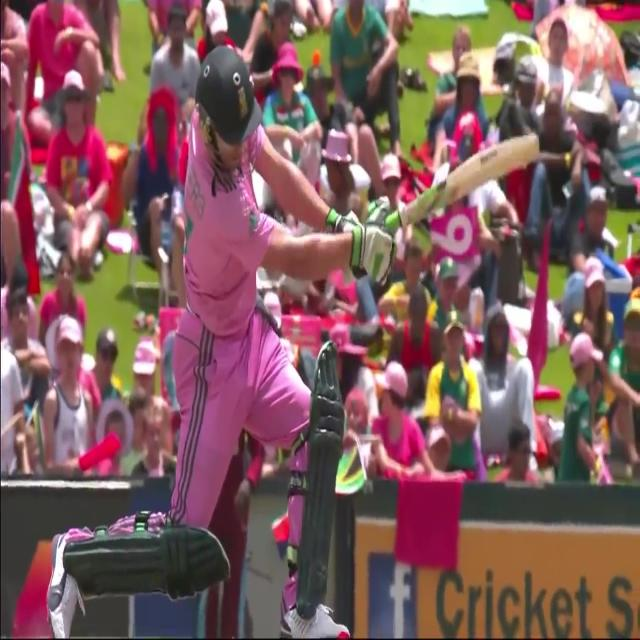Ball: (44, 45, 390, 639)
